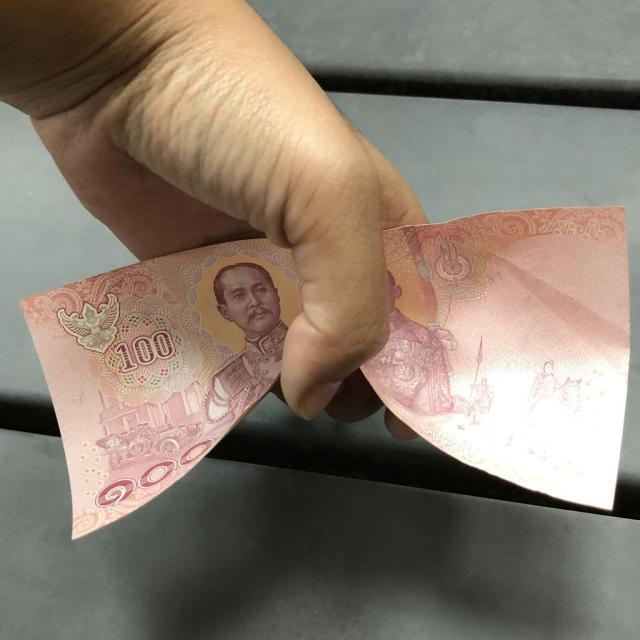THAI100: (21, 239, 302, 540), (362, 207, 631, 513)
